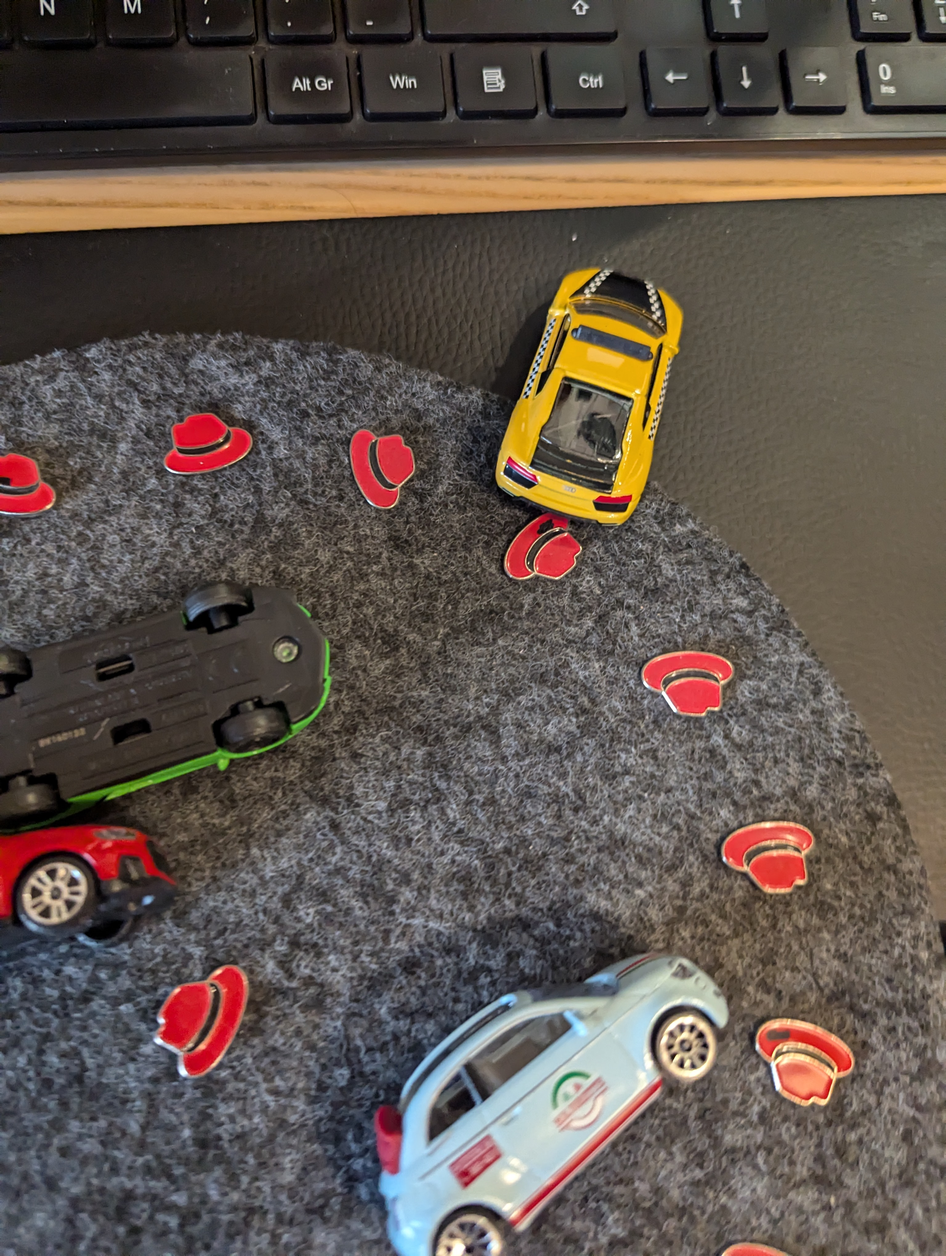Car: (351, 921, 742, 1256), (0, 555, 350, 842), (475, 259, 703, 556), (0, 806, 193, 971)
Red-Hat: (127, 946, 265, 1088), (750, 1005, 862, 1127), (154, 388, 269, 498), (704, 806, 829, 902), (627, 638, 752, 729), (341, 414, 425, 534), (502, 504, 605, 592), (0, 435, 70, 537)
Scratch: (753, 1015, 807, 1054), (523, 506, 570, 538), (0, 474, 25, 493)
